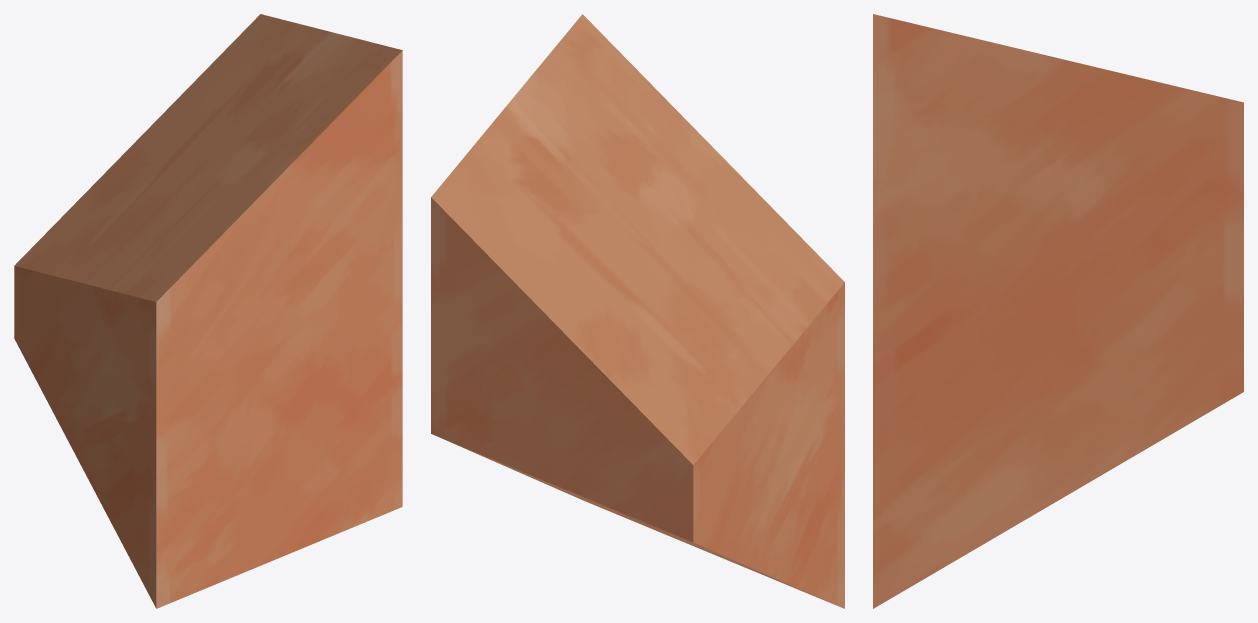
Rendered from corner2_s00.fbx.
3 renders of one model, left to right at view 1: azimuth 30°, elevation 25°; view 2: azimuth 150°, elevation 25°; view 3: azimuth 270°, elevation 25°, orthographic. The views are drawn at different scales.
Visible parts, largest first — view 1: corner2_s00; view 2: corner2_s00; view 3: corner2_s00.
Boxes of the visible parts, x1=… form: corner2_s00: x1=14, y1=14, x2=402, y2=608; corner2_s00: x1=431, y1=14, x2=844, y2=608; corner2_s00: x1=873, y1=14, x2=1243, y2=608.
Size of the model in its own units: 1.6 by 3.09 by 1.6.
